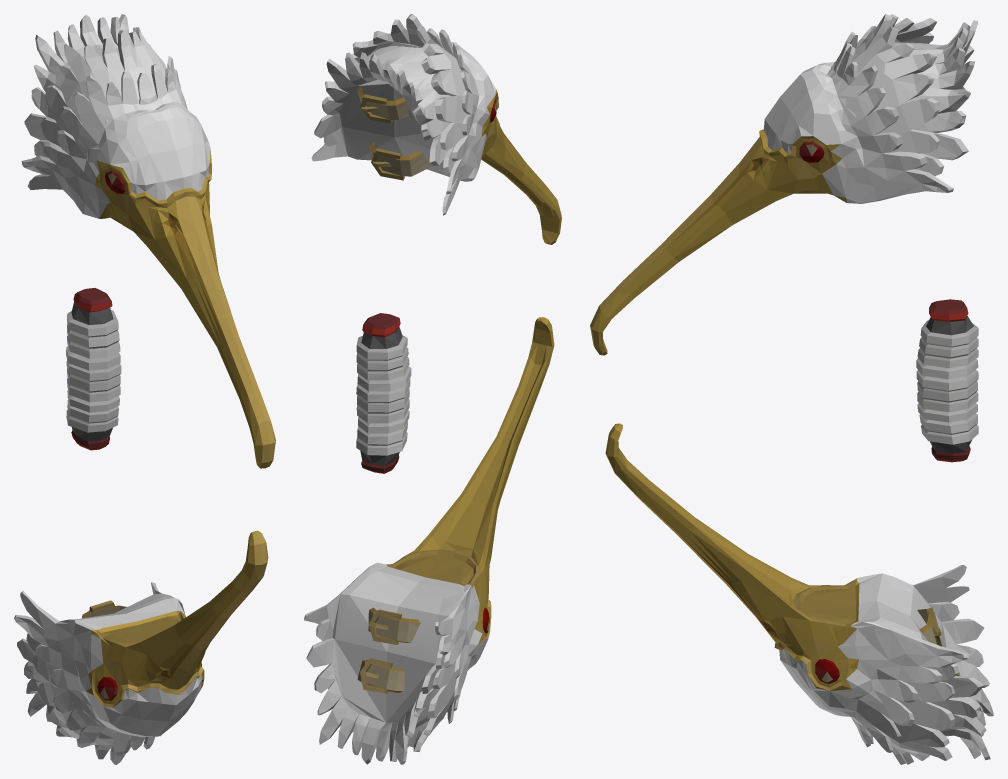
File: smallBowPelicanWarriorHandle.glb
3 renders of one model, left to right at view 1: azimuth 30°, elevation 25°; view 2: azimuth 150°, elevation 25°; view 3: azimuth 270°, elevation 25°, orthographic. The views are drawn at different scales.
Visible parts, largest first — view 1: smallBowPelicanWarriorHandle; view 2: smallBowPelicanWarriorHandle; view 3: smallBowPelicanWarriorHandle.
Part boxes in pixels (left/top/right/bottom): smallBowPelicanWarriorHandle: left=14, top=14, right=275, bottom=764; smallBowPelicanWarriorHandle: left=304, top=14, right=561, bottom=764; smallBowPelicanWarriorHandle: left=590, top=14, right=993, bottom=764.
Size of the model in its own units: 0.1373 by 0.6885 by 0.3359.
